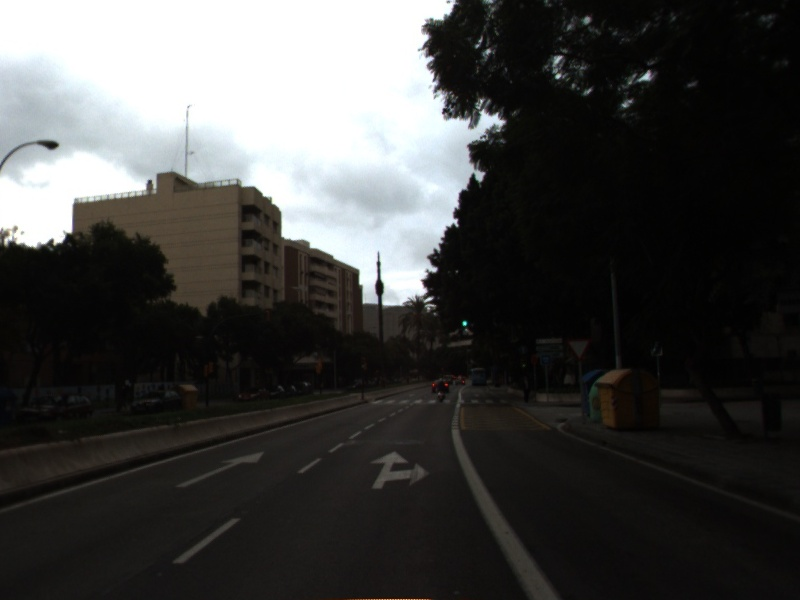STRAIGHT: (173, 449, 266, 489)
STRAIGHT_RIGHT: (368, 449, 433, 491)
